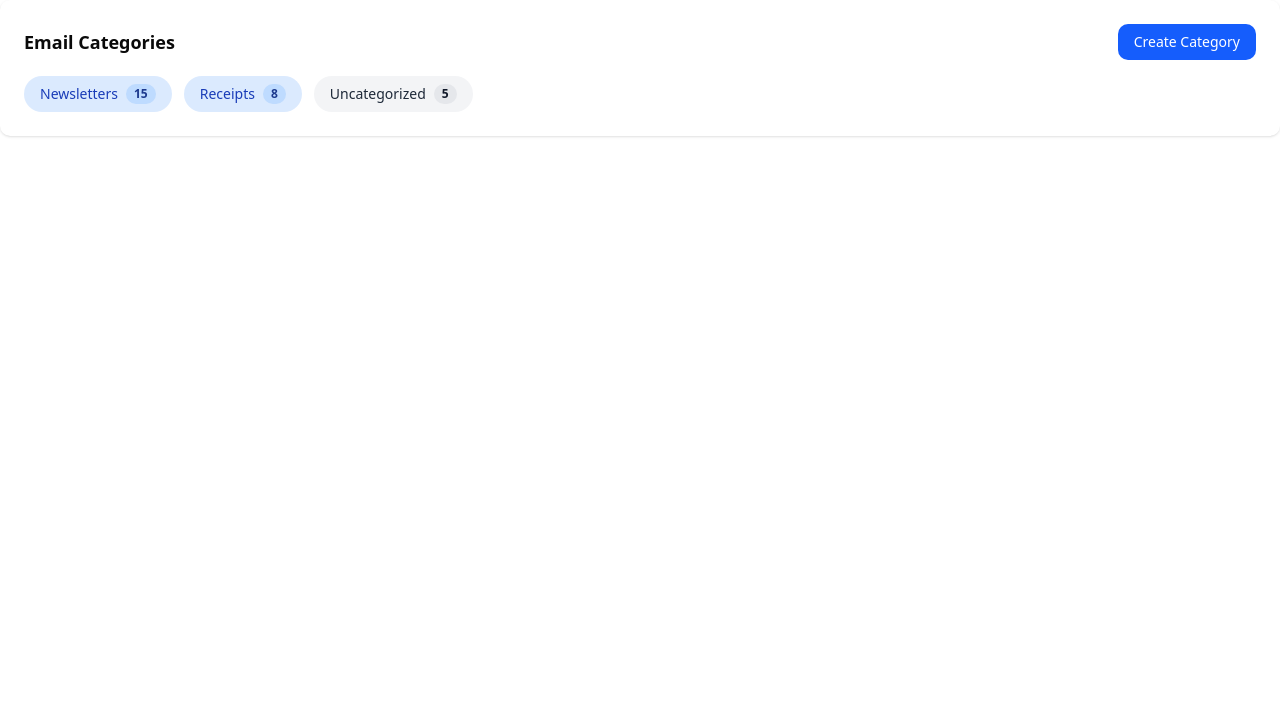
Test: CategoriesSection Component › Create Category Modal › should open create modal when clicking Create Category button
This screenshot has width=1280, height=720.
Expected: the text "Newsletters" is shown, x1=40 y1=84 x2=118 y2=104
Click the button "Create Category". click: coordinates (1187, 42)
box: x1=1118 y1=24 x2=1256 y2=60
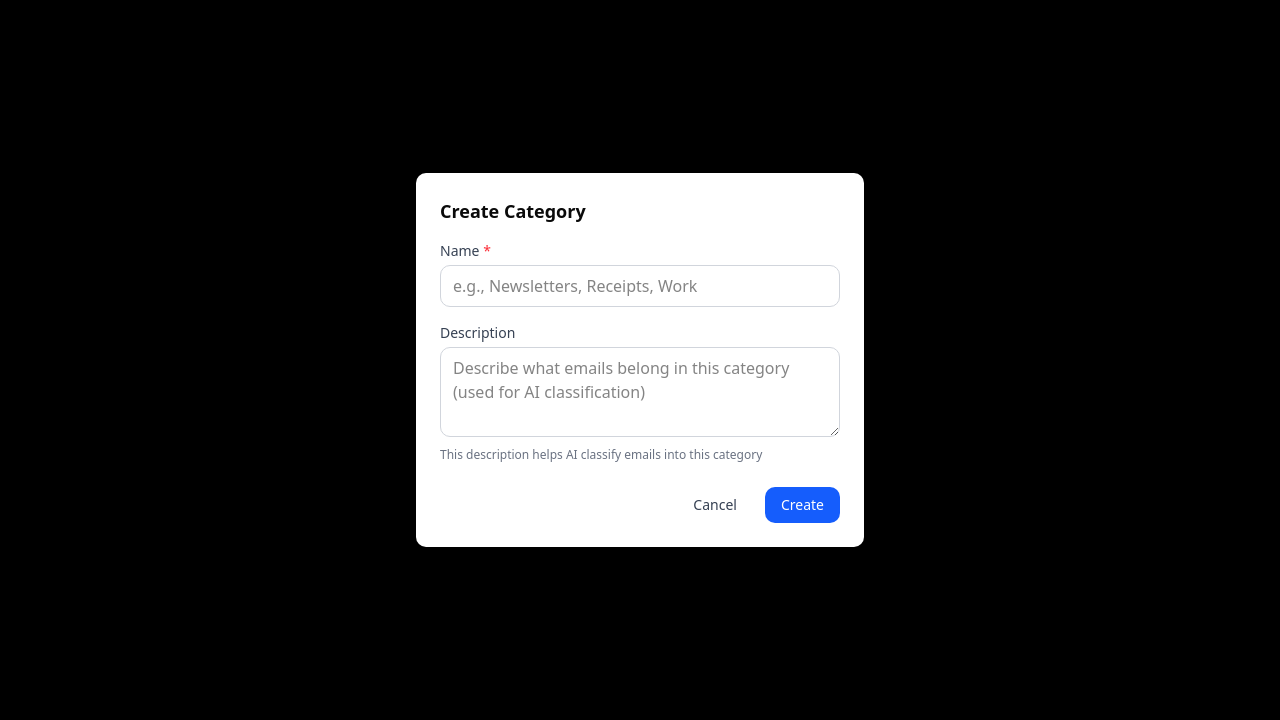
Now the heading "Create Category" is shown, box x1=440 y1=199 x2=586 y2=223
Now the field labelled "Name *" is shown, box x1=440 y1=265 x2=840 y2=307
Now the text box labelled "Description" is shown, box x1=440 y1=347 x2=840 y2=437
